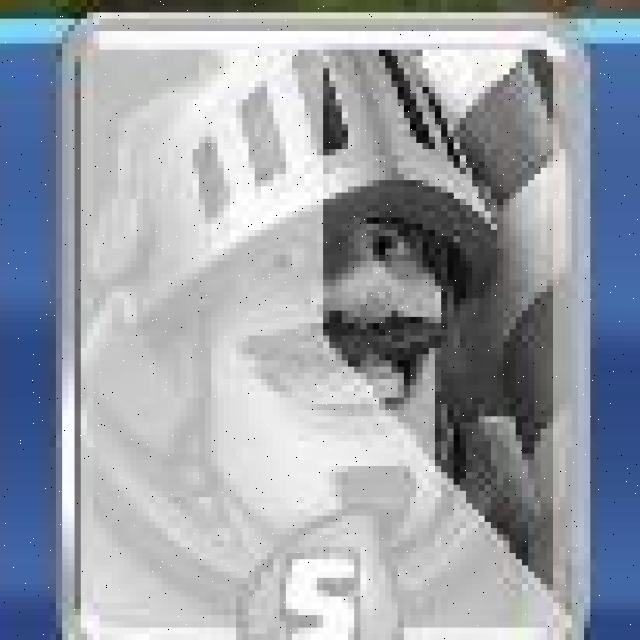Prince: (56, 13, 590, 640)
